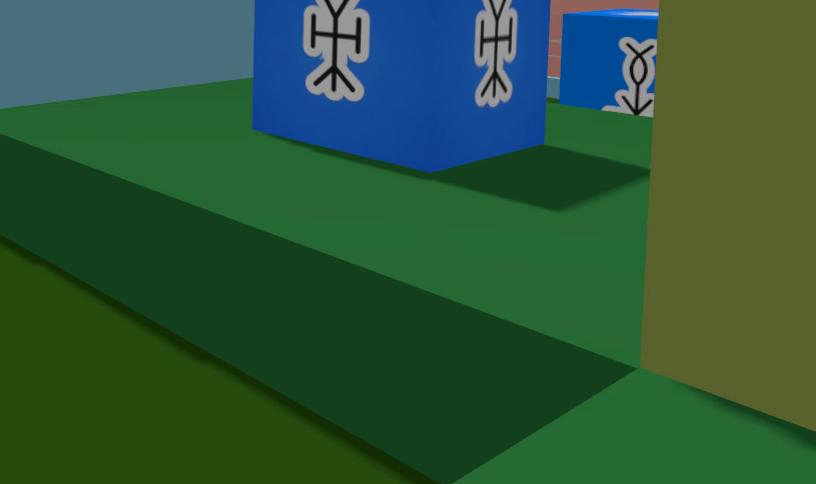KFS_REAL: (252, 0, 548, 171), (558, 8, 657, 116), (303, 0, 369, 100), (474, 0, 517, 106), (603, 37, 655, 115)
